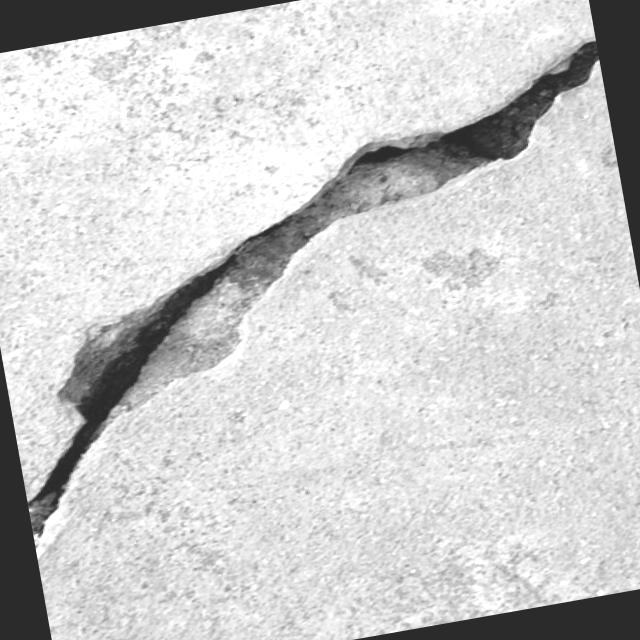crack: (15, 418, 144, 559)
spall: (17, 39, 640, 428)
